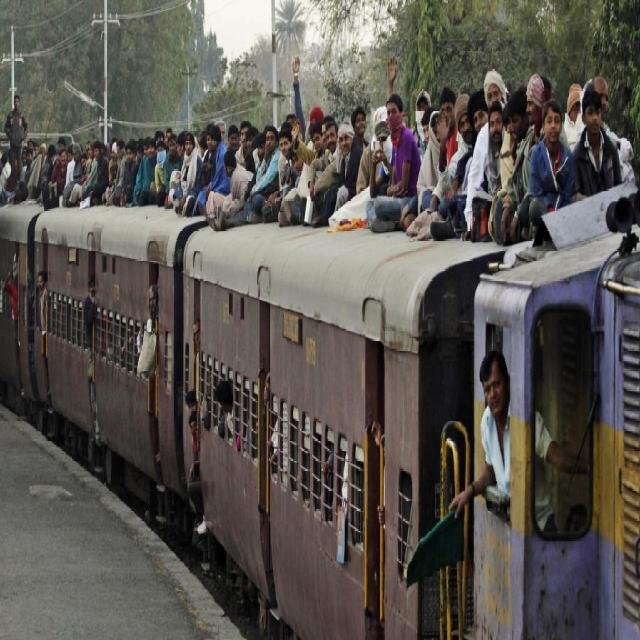body: (186, 316, 420, 566), (0, 59, 339, 223), (0, 245, 176, 428), (448, 344, 591, 522), (493, 71, 568, 247), (462, 67, 510, 242), (369, 92, 422, 236), (528, 97, 576, 250), (430, 91, 476, 242), (373, 104, 438, 209), (495, 83, 535, 244), (571, 84, 623, 204), (364, 98, 407, 232), (386, 53, 432, 157), (324, 113, 356, 228), (308, 118, 340, 226), (479, 98, 508, 200), (343, 104, 370, 202), (448, 92, 474, 187), (4, 93, 29, 181), (437, 84, 461, 162), (410, 88, 432, 162), (562, 81, 584, 153), (586, 74, 610, 132)
